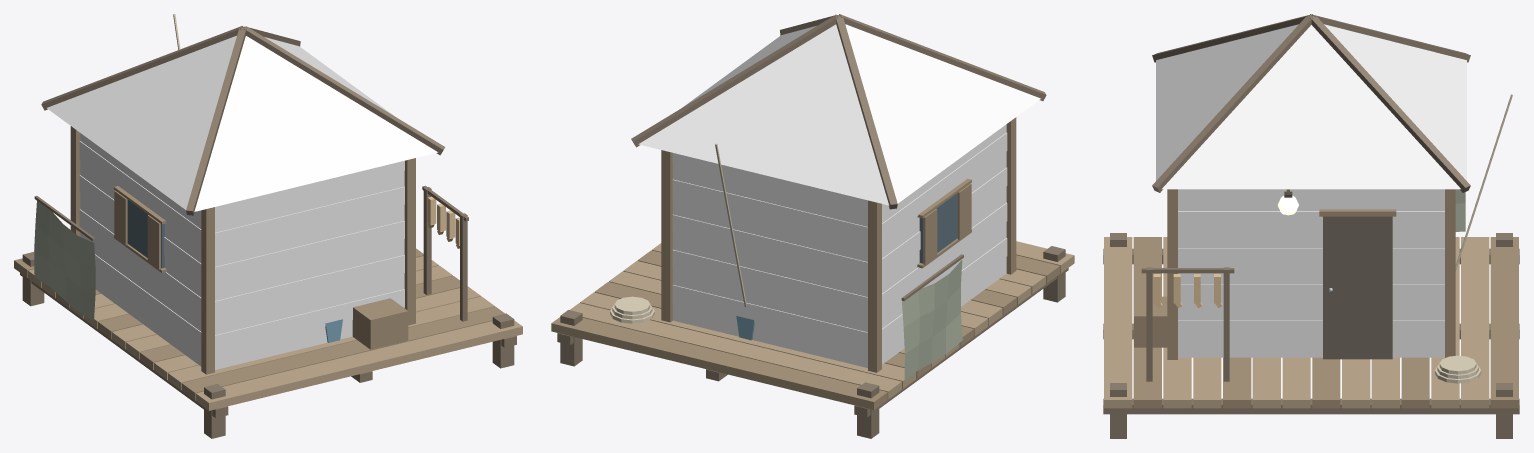
File: stilt_village.glb
3 views of the same model, side by side, from view 1: azimuth 30°, elevation 25°; view 2: azimuth 150°, elevation 25°; view 3: azimuth 270°, elevation 25° (orthographic). The views are drawn at different scales.
Parts seen in each view (by area): view 1: sv_house_wall_mesh, sv_house_roof_mesh, sv_platform_mesh, sv_house_trim_mesh; view 2: sv_house_wall_mesh, sv_house_roof_mesh, sv_platform_mesh, sv_house_trim_mesh, sv_boat_mesh; view 3: sv_house_roof_mesh, sv_platform_mesh, sv_house_wall_mesh, sv_house_trim_mesh, sv_boat_mesh.
Boxes of the visible parts, x1=… form: sv_house_wall_mesh: x1=79, y1=133, x2=404, y2=369; sv_house_roof_mesh: x1=41, y1=26, x2=445, y2=215; sv_platform_mesh: x1=14, y1=248, x2=522, y2=438; sv_house_trim_mesh: x1=34, y1=126, x2=468, y2=374; sv_house_wall_mesh: x1=672, y1=124, x2=1007, y2=367; sv_house_roof_mesh: x1=631, y1=14, x2=1046, y2=209; sv_platform_mesh: x1=551, y1=241, x2=1074, y2=438; sv_house_trim_mesh: x1=610, y1=117, x2=1016, y2=380; sv_boat_mesh: x1=715, y1=143, x2=754, y2=340; sv_house_roof_mesh: x1=1152, y1=14, x2=1470, y2=192; sv_platform_mesh: x1=1103, y1=233, x2=1519, y2=438; sv_house_wall_mesh: x1=1178, y1=189, x2=1444, y2=357; sv_house_trim_mesh: x1=1134, y1=189, x2=1481, y2=383; sv_boat_mesh: x1=1455, y1=94, x2=1512, y2=271.
Bounding box in the file's own units: 5.08 × 4.74 × 5.4.
